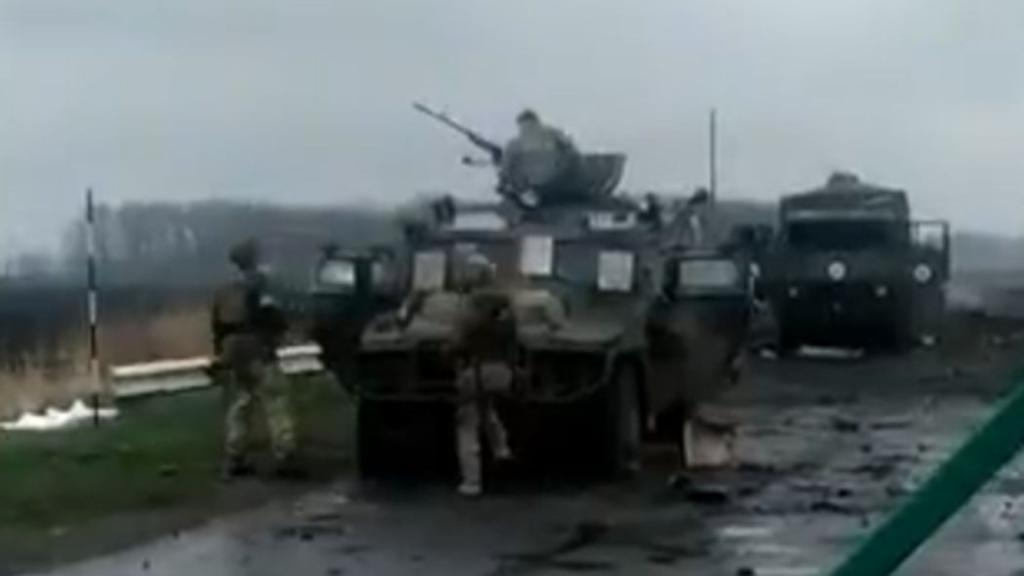CAR: (342, 192, 718, 478)
TRUCK: (768, 178, 926, 352)
